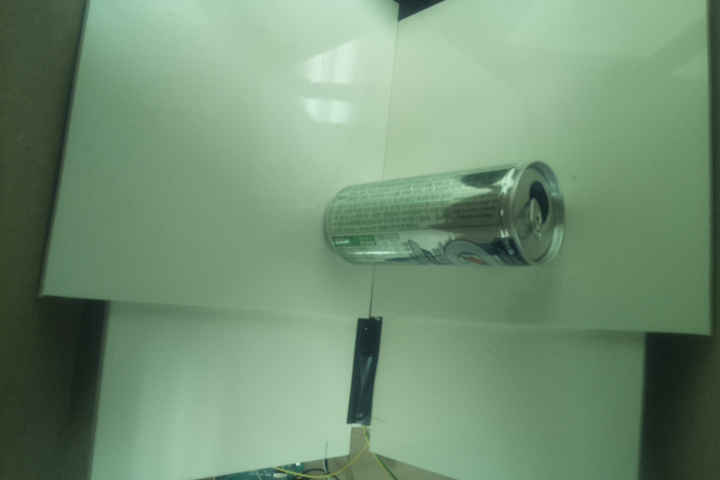can: (316, 156, 567, 271)
